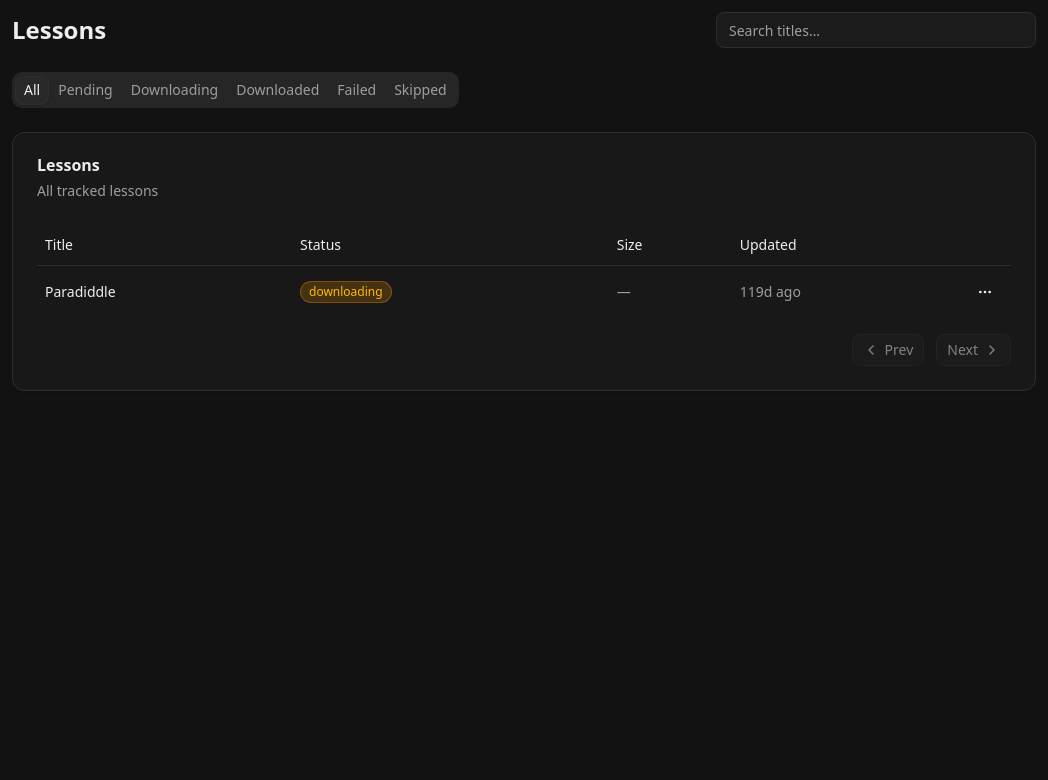
it: a row action raced by something done elsewhere is a neutral note, and the list refreshes › Cancel download answered 404: the download was removed meanwhile
Click the button named "Actions for Paradiddle" at coordinates (985, 292), box [967,274,1003,310]
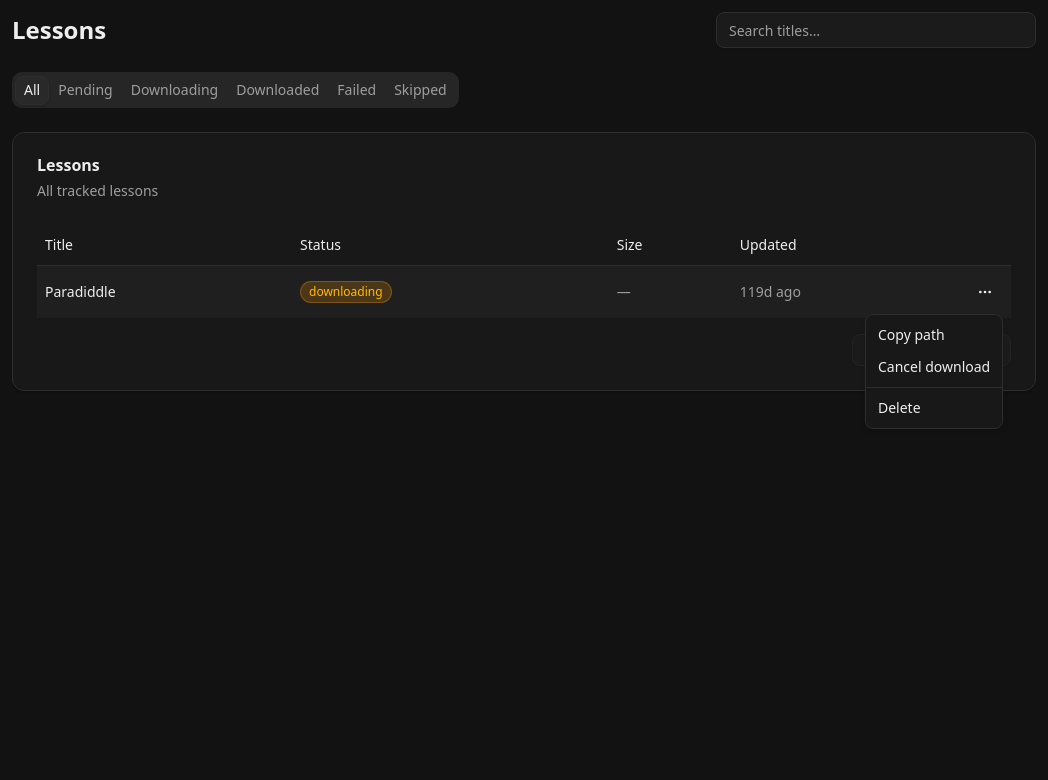
Click the menu item "Cancel download" at coordinates (934, 366), box [878,357,990,376]
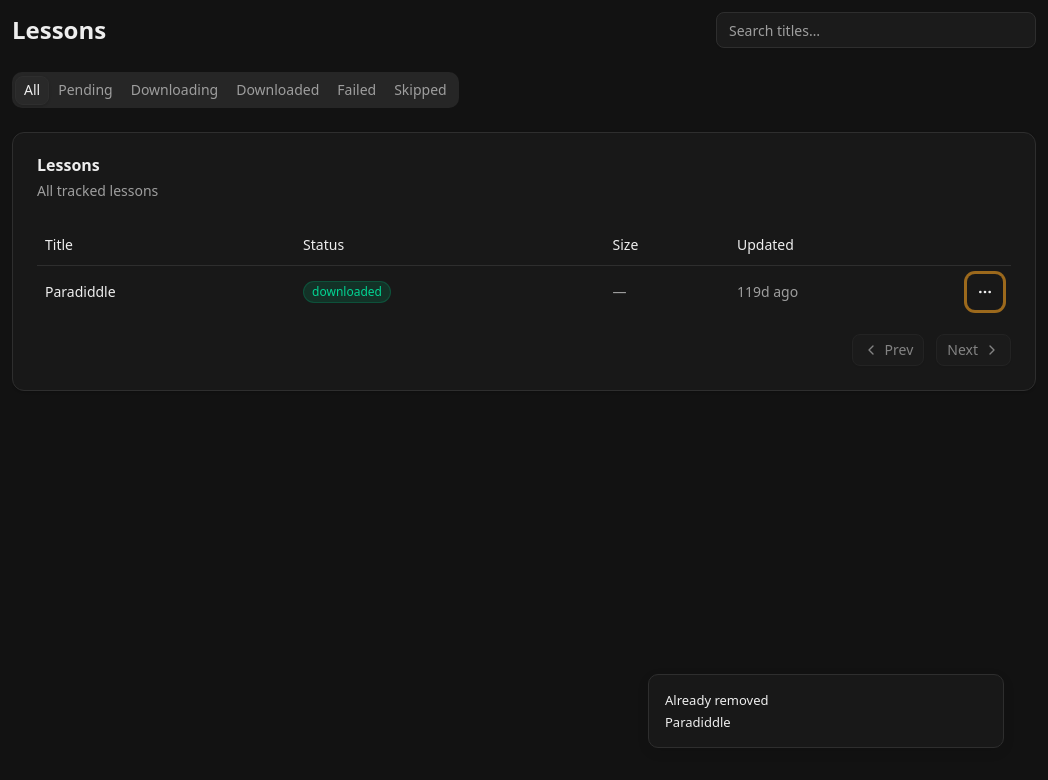
Result: the text "Paradiddle" is shown at [665,713,731,731]
Result: the text "downloaded" is shown at [303,280,391,302]
